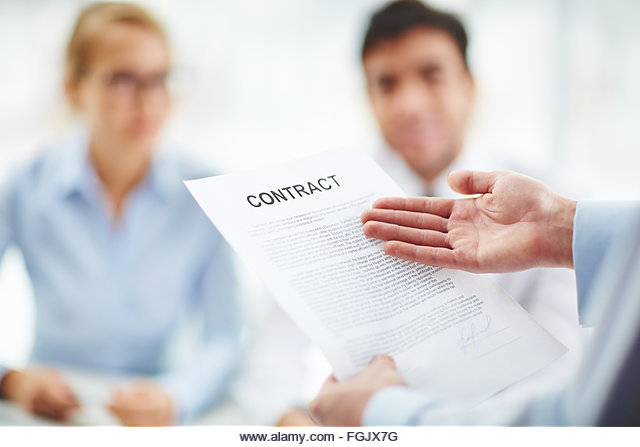non-diseased: (365, 173, 572, 288)
